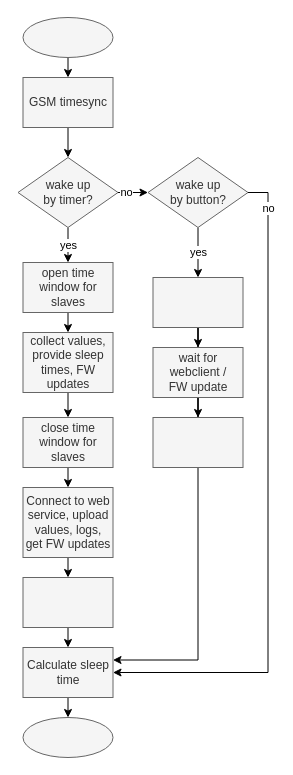
This 293x775 diagram has some shape labels left out. Each missing label, with the centre of its shape:
"FW update" goes at (67,602).
"Sleep" goes at (67,737).
"Start / wake up" goes at (67,37).
"start webserver" goes at (197,302).
"timeout / webclient disconnected" goes at (197,442).
